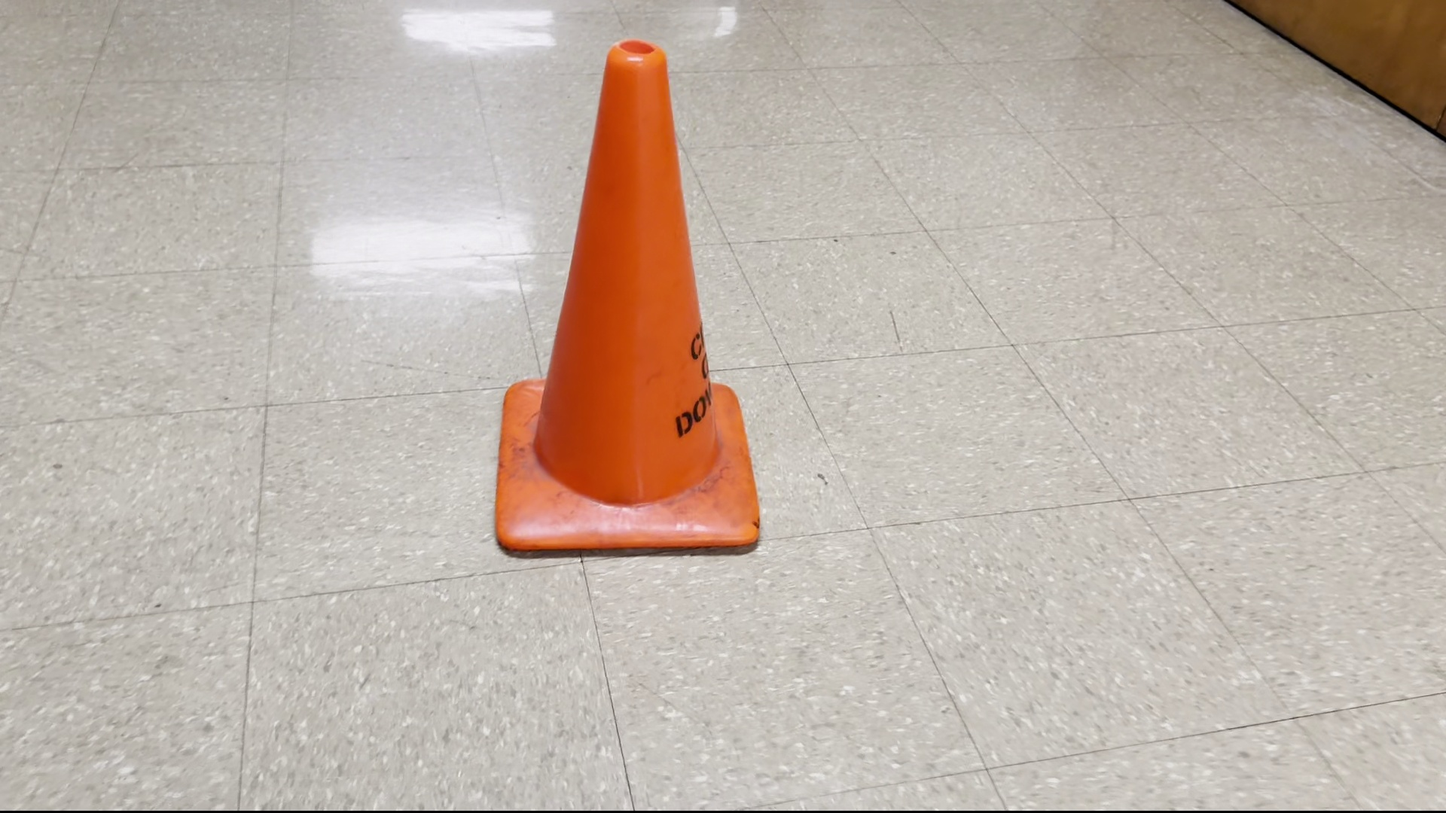traffic_cone: (493, 38, 761, 553)
